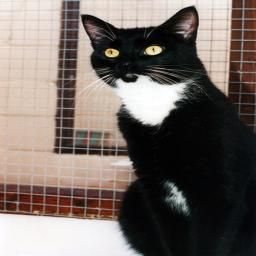catnose: (118, 59, 138, 70)
